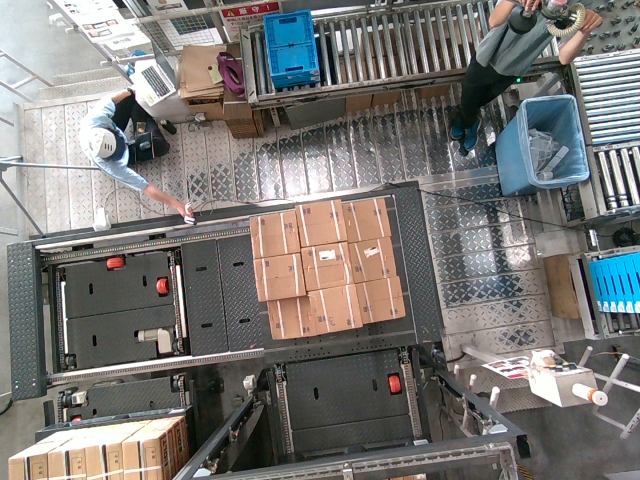box: (247, 213, 300, 257), (253, 258, 306, 302), (294, 200, 347, 244), (299, 244, 352, 288), (307, 287, 360, 331), (339, 198, 392, 242), (344, 238, 397, 282), (354, 279, 407, 323), (265, 296, 318, 340)
